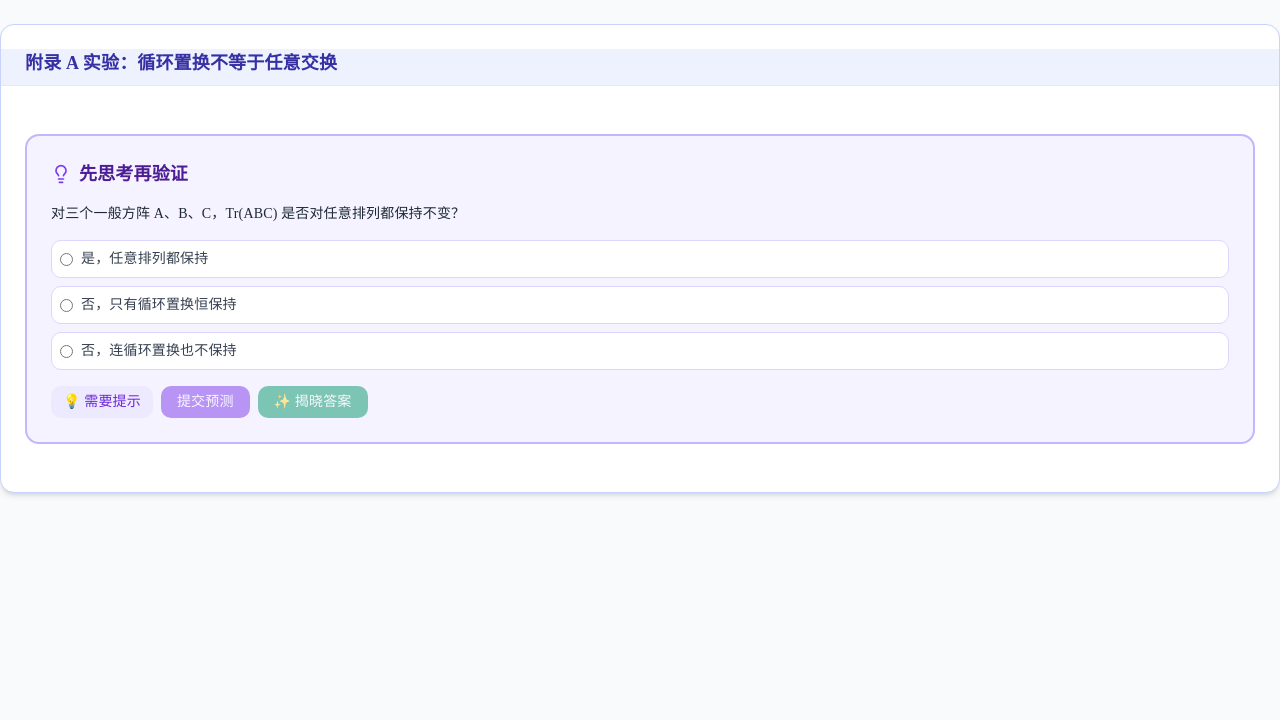
appendices A–C teaching-ready learning loops › requires a prediction before exposing the trace counterexample
Click the radio button labelled "否，只有循环置换恒保持" at (66, 305), box [60,298,73,312]
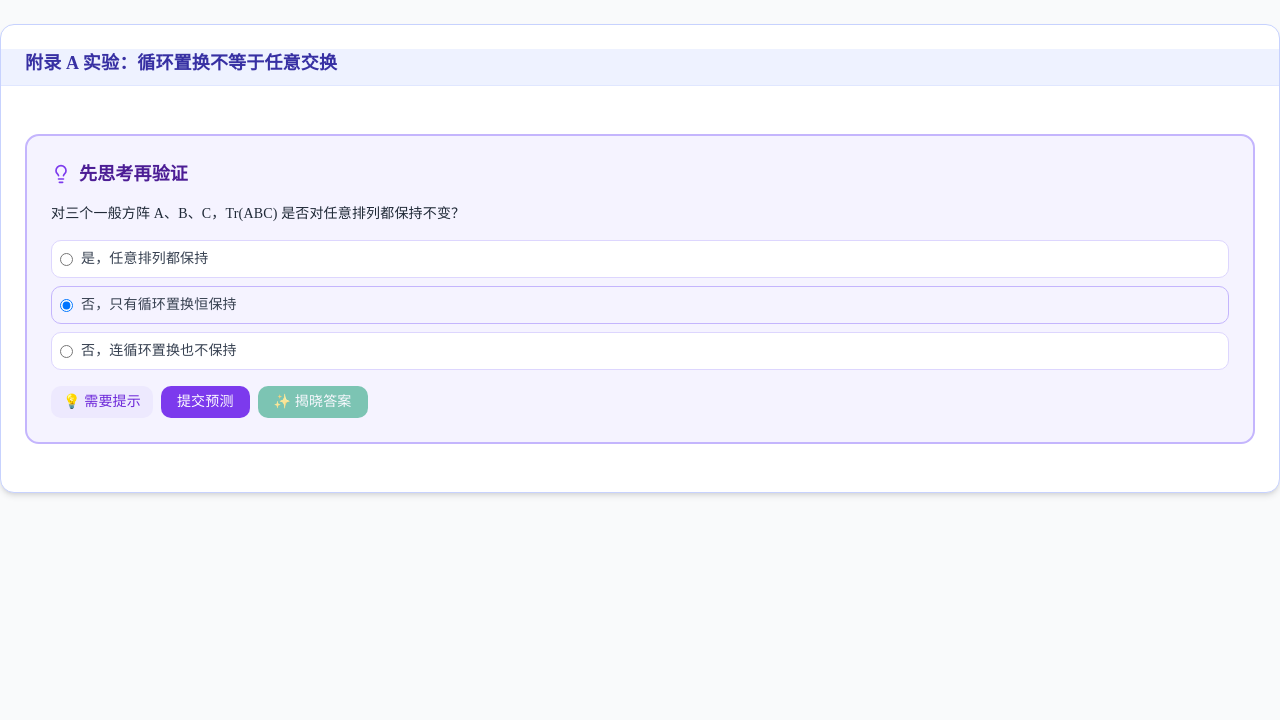
Click the button "提交预测" at (205, 402), box [161,386,250,418]
(page scrolled)
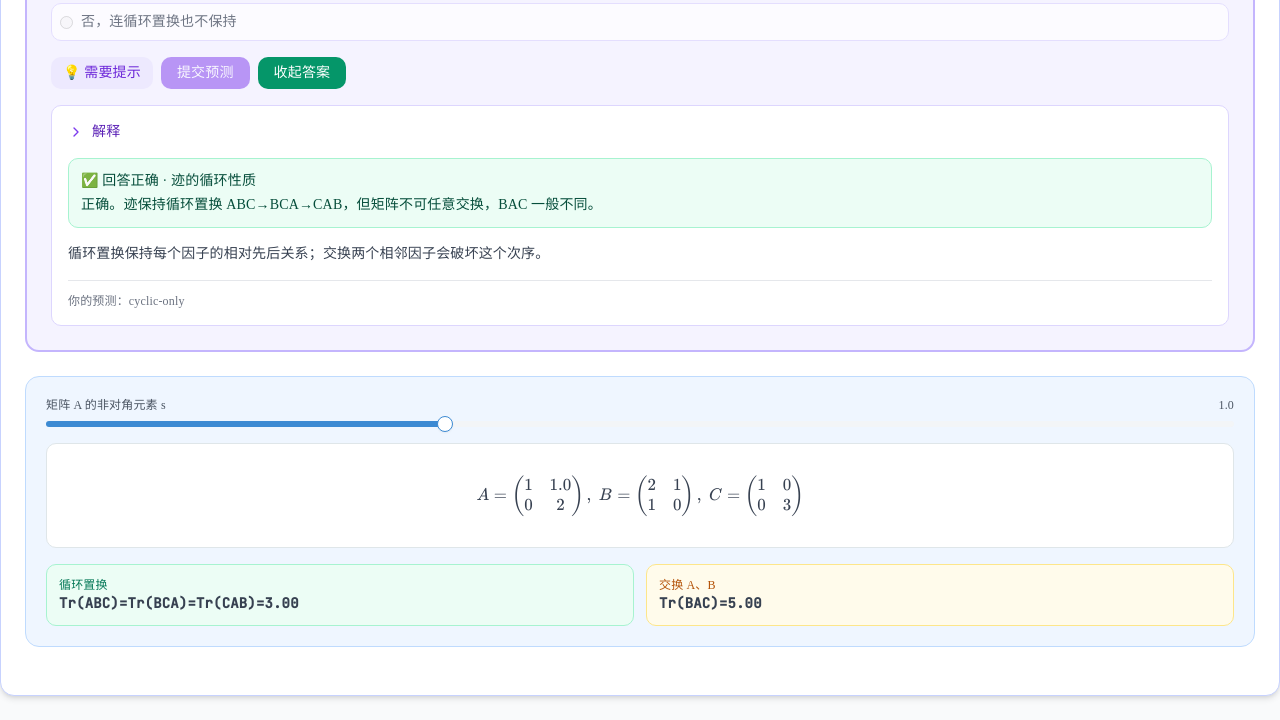
expect the element named "迹循环置换实验区" is shown: met, box [25,376,1255,647]
expect the element with test id "evaluation-feedback" shows "回答正确": met, box [81,173,159,188]
expect the text "Tr(ABC)=Tr(BCA)=Tr(CAB)=3.00" is shown: met, box [59,594,299,612]
